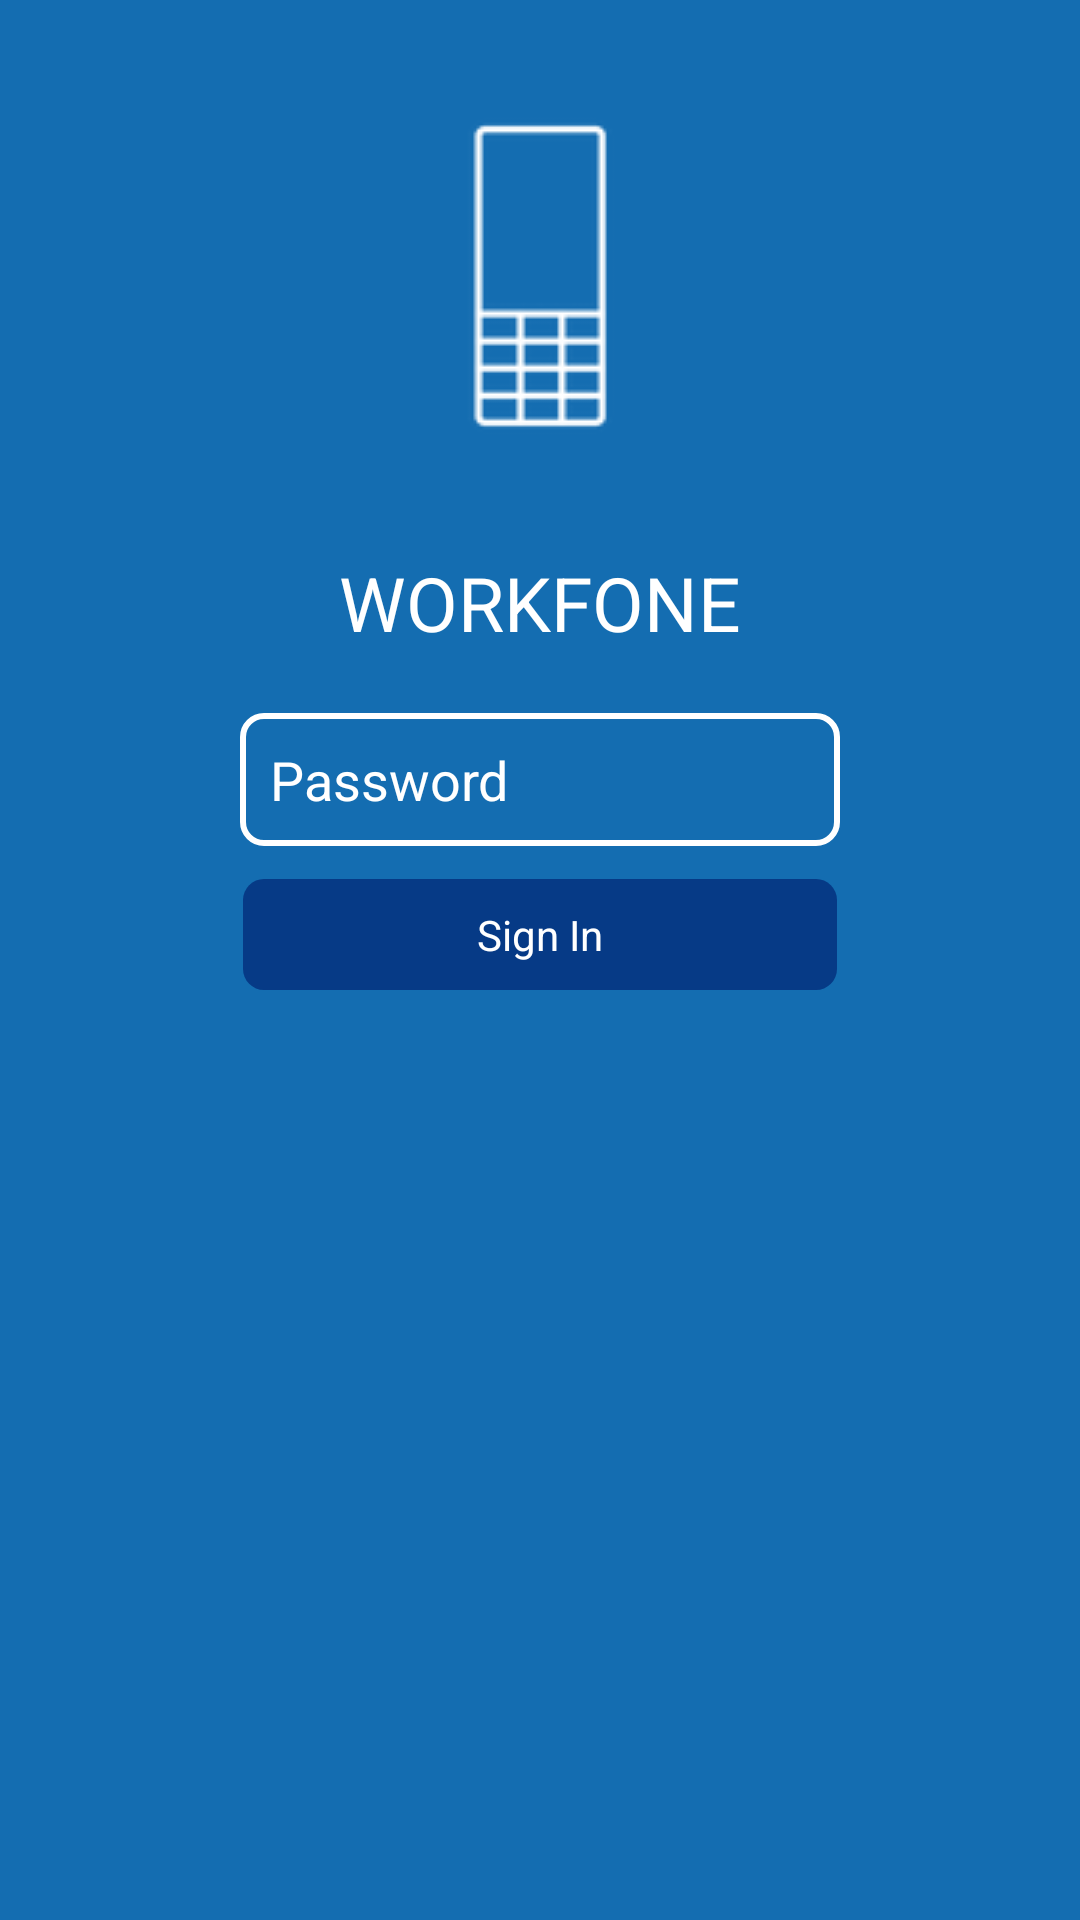

Named icons in this screenshot (1080×1920) and their bounding boxes, BBox(x1, y1, x2, y2):
burnericon main: BBox(473, 125, 607, 427)
